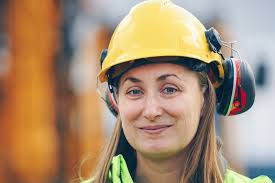Person_wearing_helmet: (94, 0, 225, 114)
